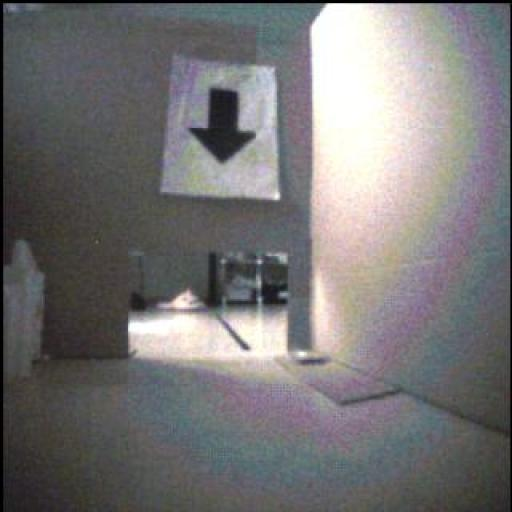arrow: (190, 89, 257, 164)
